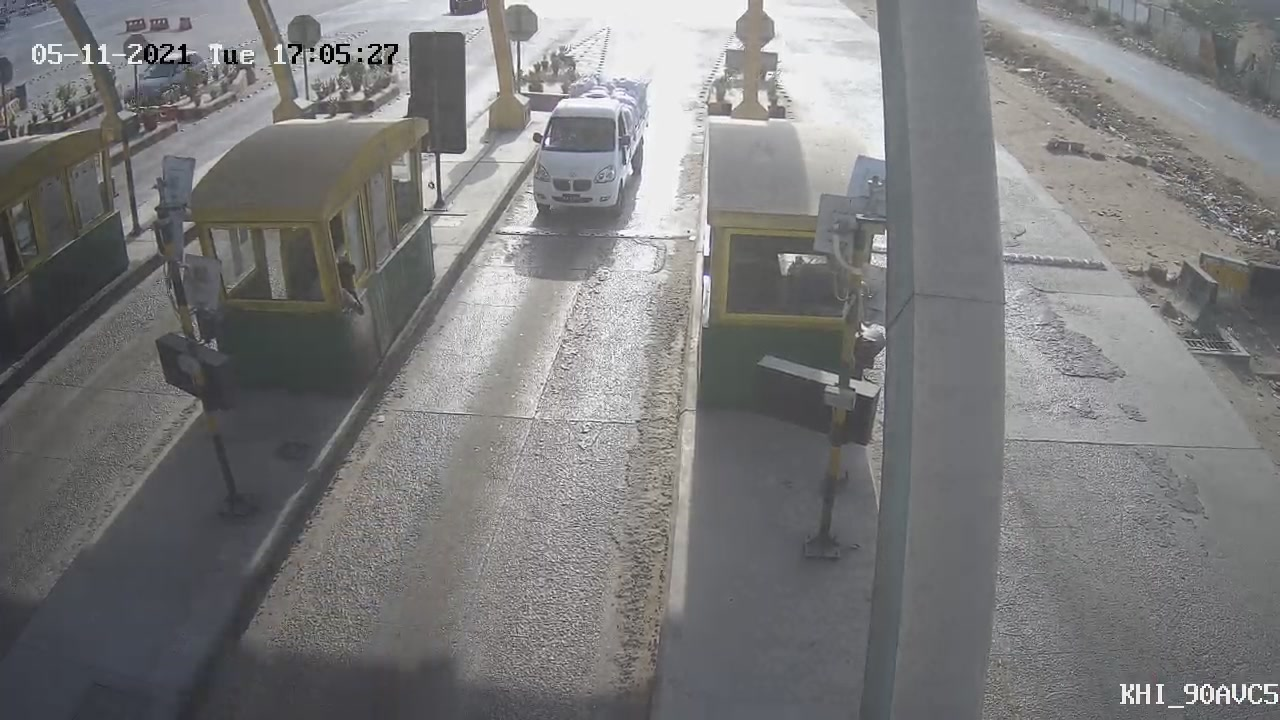F2: (500, 55, 673, 244)
